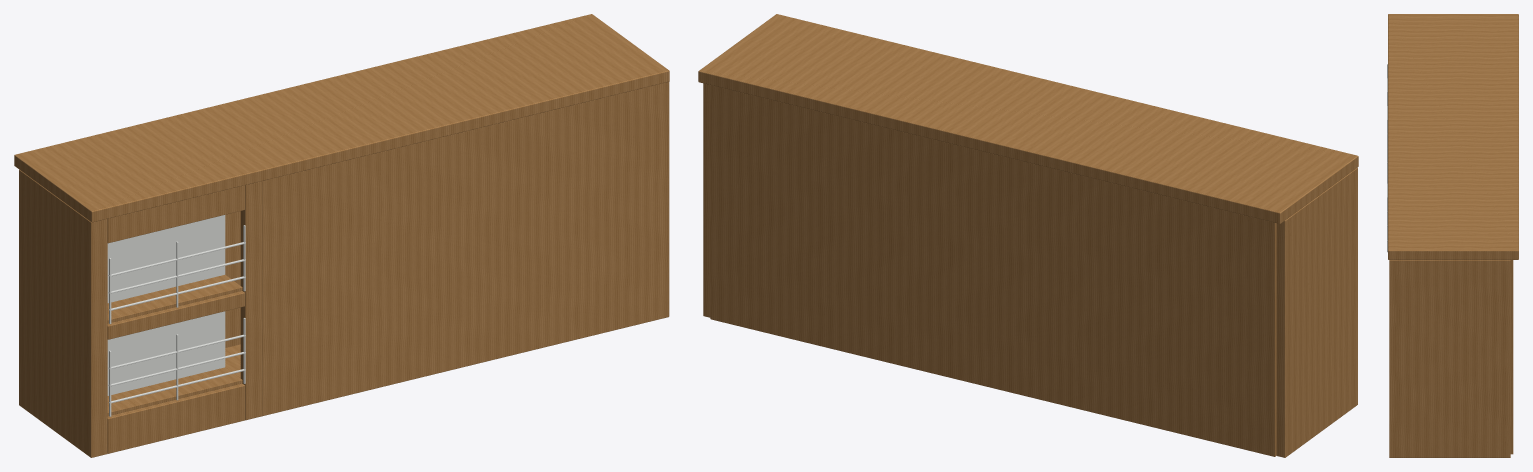
Rendered from shibuhachibox_counter.glb.
The picture shows the model from 3 angles, left to right: view 1: azimuth 30°, elevation 25°; view 2: azimuth 150°, elevation 25°; view 3: azimuth 270°, elevation 25°; orthographic projection. The views are drawn at different scales.
Parts seen in each view (by area): view 1: Oak_counter, White_rack; view 2: Oak_counter; view 3: Oak_counter, White_rack.
Boxes of the visible parts, x1=… form: Oak_counter: x1=14, y1=14, x2=669, y2=457; White_rack: x1=107, y1=215, x2=245, y2=416; Oak_counter: x1=698, y1=14, x2=1358, y2=457; Oak_counter: x1=1388, y1=14, x2=1518, y2=457; White_rack: x1=1387, y1=64, x2=1387, y2=252.
Size of the model in its own units: 2.4 by 0.98 by 0.564.
Materials: 2 (1 with a texture image).
